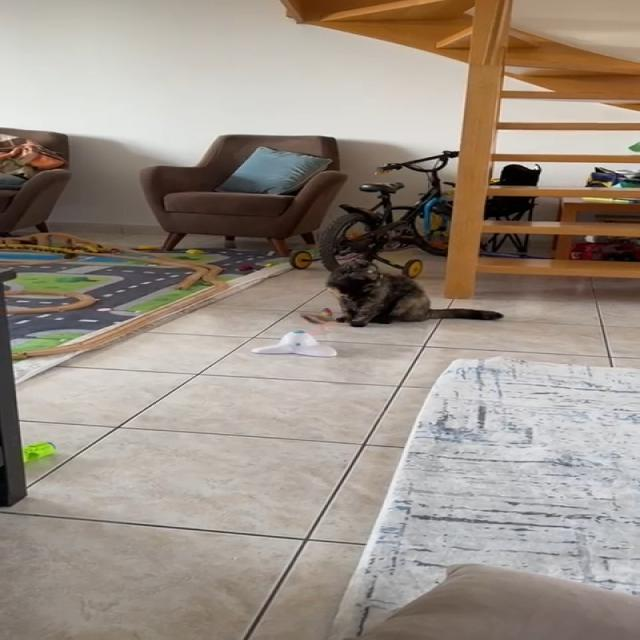authorized: (300, 258, 504, 328)
